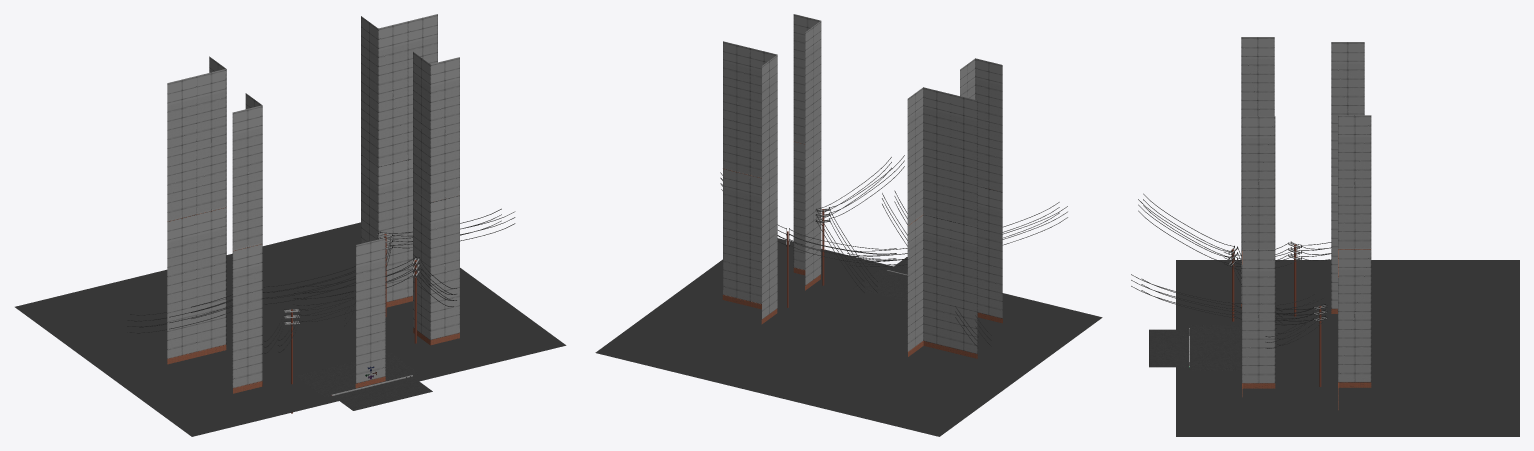
Rendered from Pause menu.gltf.
3 views of the same model, side by side, from view 1: azimuth 30°, elevation 25°; view 2: azimuth 150°, elevation 25°; view 3: azimuth 270°, elevation 25° (orthographic). The views are drawn at different scales.
Visible parts, largest first — view 1: building (×17), background, ground, road; view 2: building (×19), background, ground; view 3: background, building (×7), ground, road.
Part boxes in pixels (x1,y1,x2,y2): building (×17): (167,14,459,393); background: (15,222,566,436); ground: (296,353,419,397); road: (333,376,432,410); building (×19): (722,14,1002,358); background: (595,238,1102,436); ground: (854,269,907,301); background: (1176,260,1519,436); building (×7): (1241,37,1371,388); ground: (1189,325,1241,370); road: (1149,329,1188,367).
Size of the model in its own units: 50.38 by 39.91 by 46.78.
5 materials, 5 textured.
